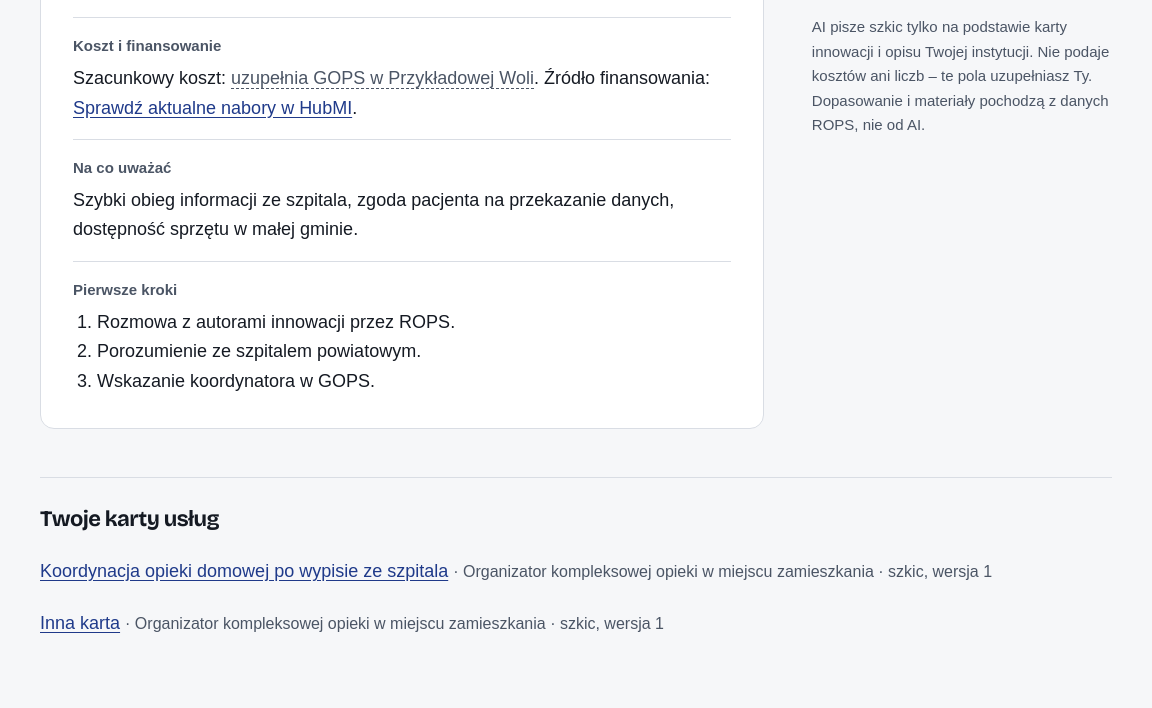
Test: MiddlemanWorkbench focus and announcements › lists the cards as links and focuses the opened card's title
(page scrolled)
Click the link "Inna karta" at (80, 623), box [40, 613, 120, 633]
(page scrolled)
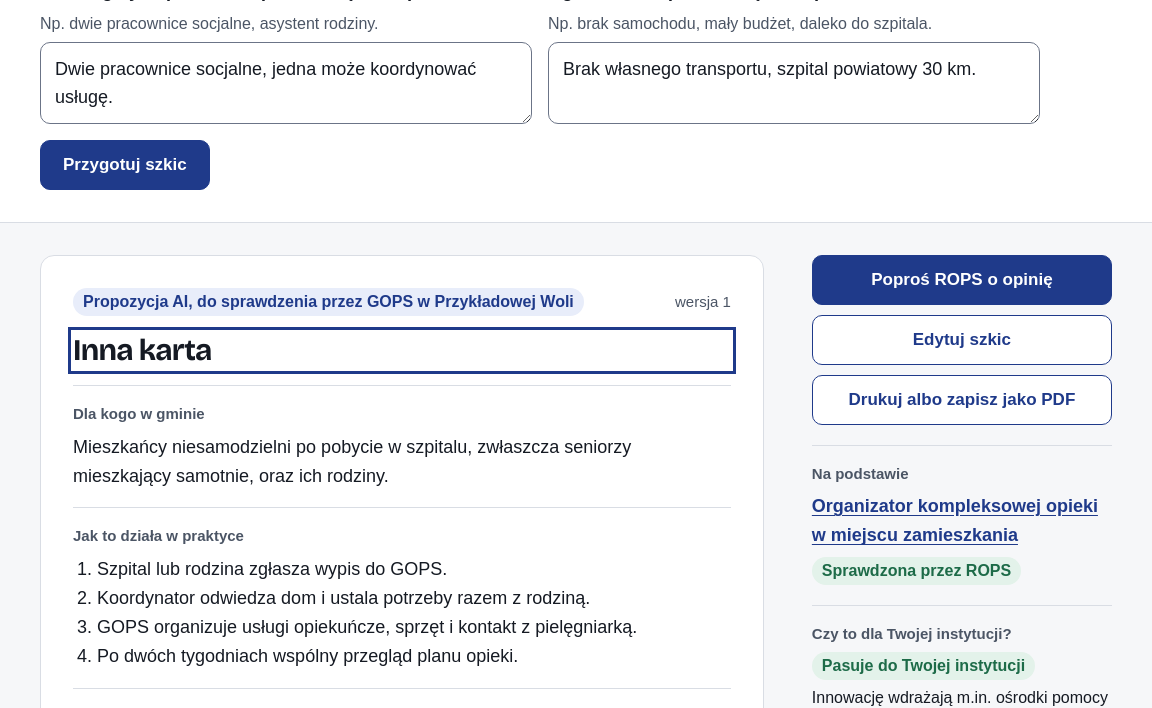
Now the heading "Inna karta" is shown, box [73, 332, 212, 368]
